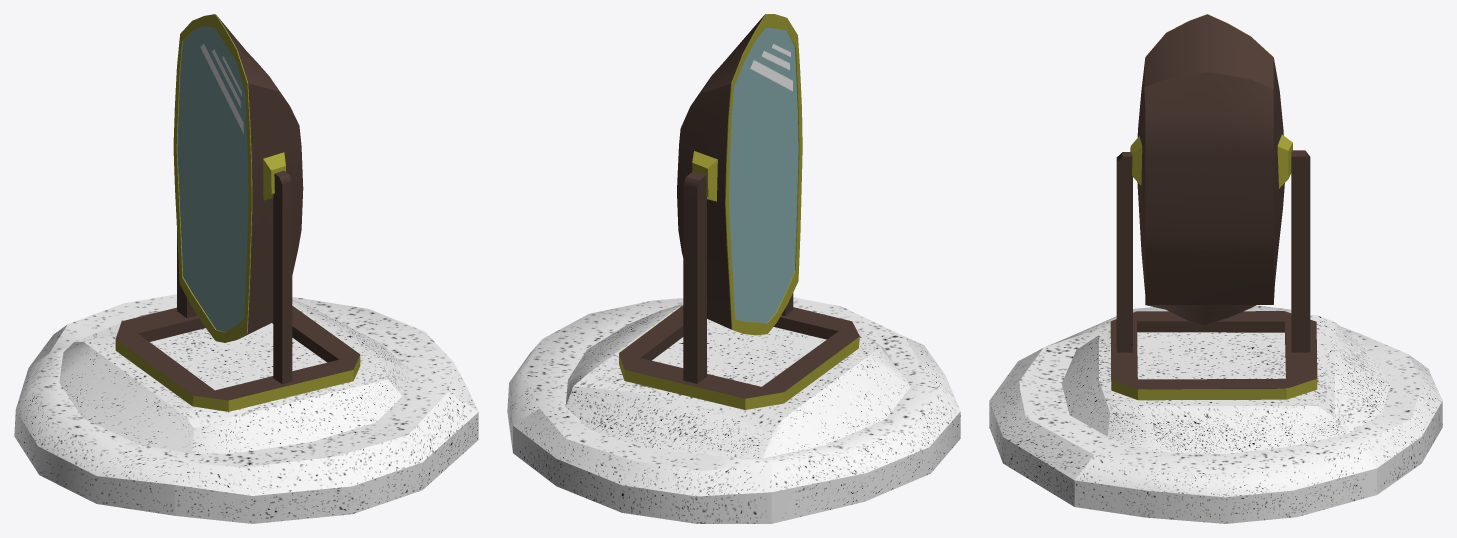
Rendered from RoundMirrorForUnity.fbx.
3 renders of one model, left to right at view 1: azimuth 30°, elevation 25°; view 2: azimuth 150°, elevation 25°; view 3: azimuth 270°, elevation 25°, orthographic. The views are drawn at different scales.
Visible parts, largest first — view 1: pCube3; view 2: pCube3; view 3: pCube3.
Part boxes in pixels (<box>): pCube3: <box>14,14,478,523</box>; pCube3: <box>507,14,960,523</box>; pCube3: <box>989,14,1442,523</box>.
Bounding box in the file's own units: 3.64 × 3.71 × 3.73.
1 material, 1 textured.
